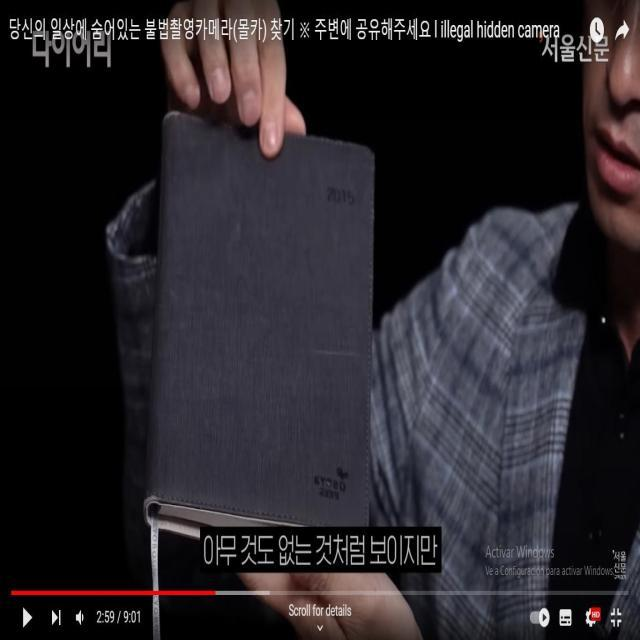hidden camera: (324, 473, 335, 495)
